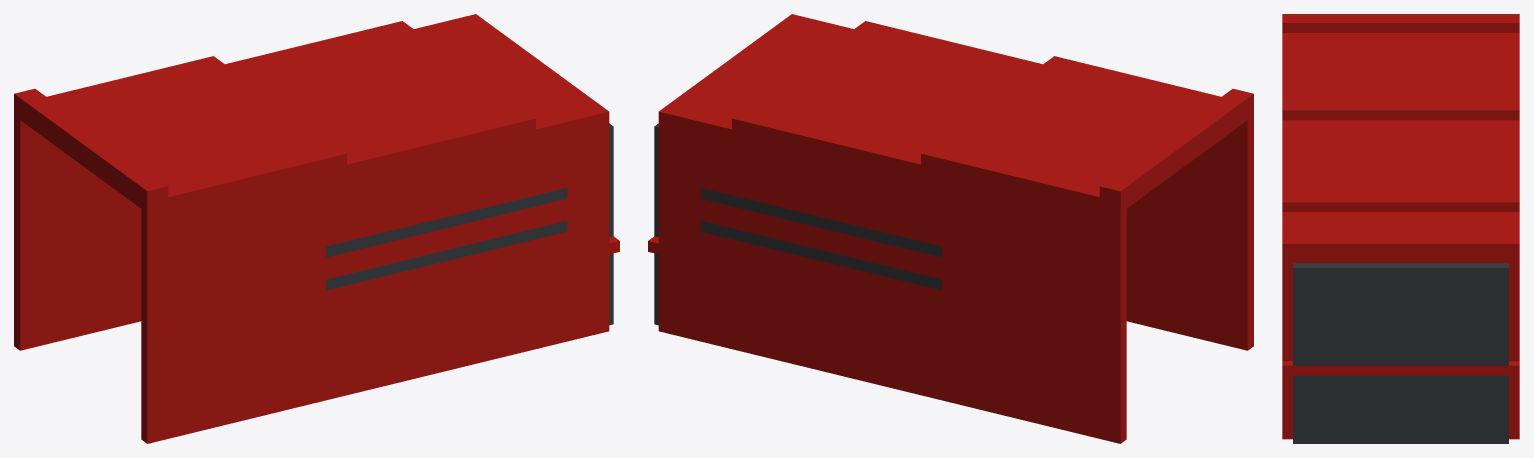
The model's file is small_tractor_bonnet.glb.
The picture shows the model from 3 angles, left to right: view 1: azimuth 30°, elevation 25°; view 2: azimuth 150°, elevation 25°; view 3: azimuth 270°, elevation 25°; orthographic projection. The views are drawn at different scales.
Visible parts, largest first — view 1: body:compound; view 2: body:compound; view 3: body:compound.
Part boxes in pixels (left/top/right/bottom): body:compound: left=14, top=14, right=619, bottom=443; body:compound: left=648, top=14, right=1253, bottom=443; body:compound: left=1282, top=14, right=1519, bottom=443.
Size of the model in its own units: 1.41 by 0.7188 by 0.6875.
